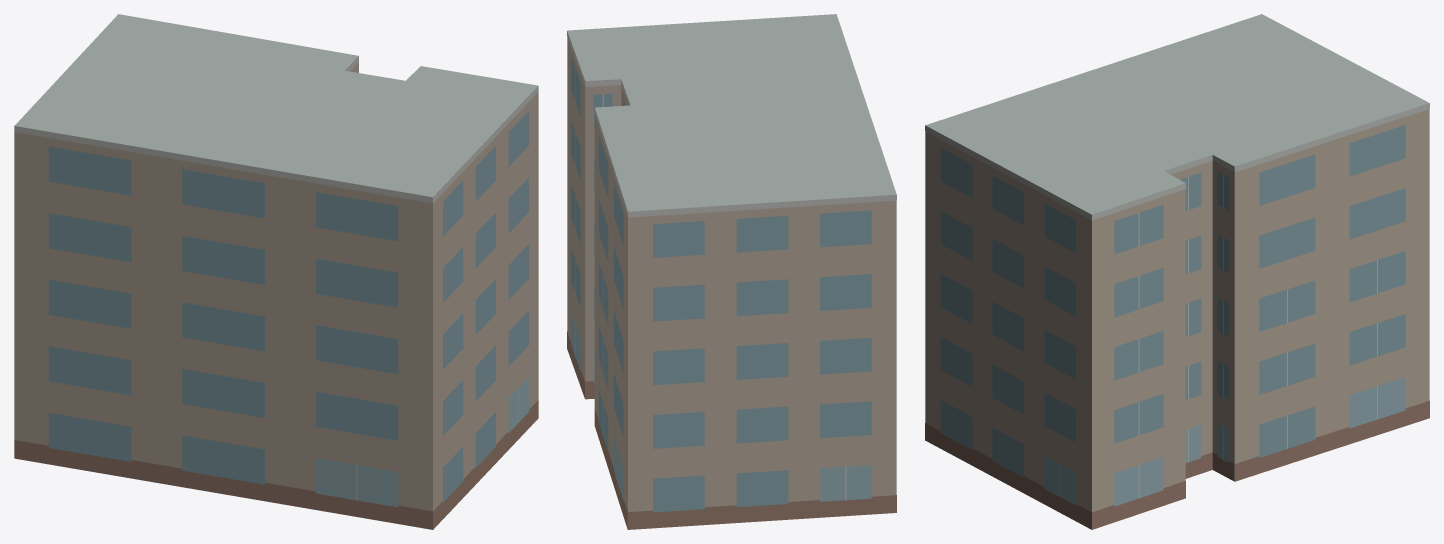
Rendered from survey-upis-32998884.glb.
The picture shows the model from 3 angles, left to right: view 1: azimuth 30°, elevation 25°; view 2: azimuth 150°, elevation 25°; view 3: azimuth 270°, elevation 25°; orthographic projection. The views are drawn at different scales.
Parts seen in each view (by area): view 1: survey-upis-32998884.tmp; view 2: survey-upis-32998884.tmp; view 3: survey-upis-32998884.tmp.
Part boxes in pixels (x1,y1,x2,y2): survey-upis-32998884.tmp: (14, 14, 538, 529); survey-upis-32998884.tmp: (567, 14, 896, 529); survey-upis-32998884.tmp: (925, 14, 1429, 529).
Bounding box in the file's own units: 18.05 × 13.2 × 19.17.
